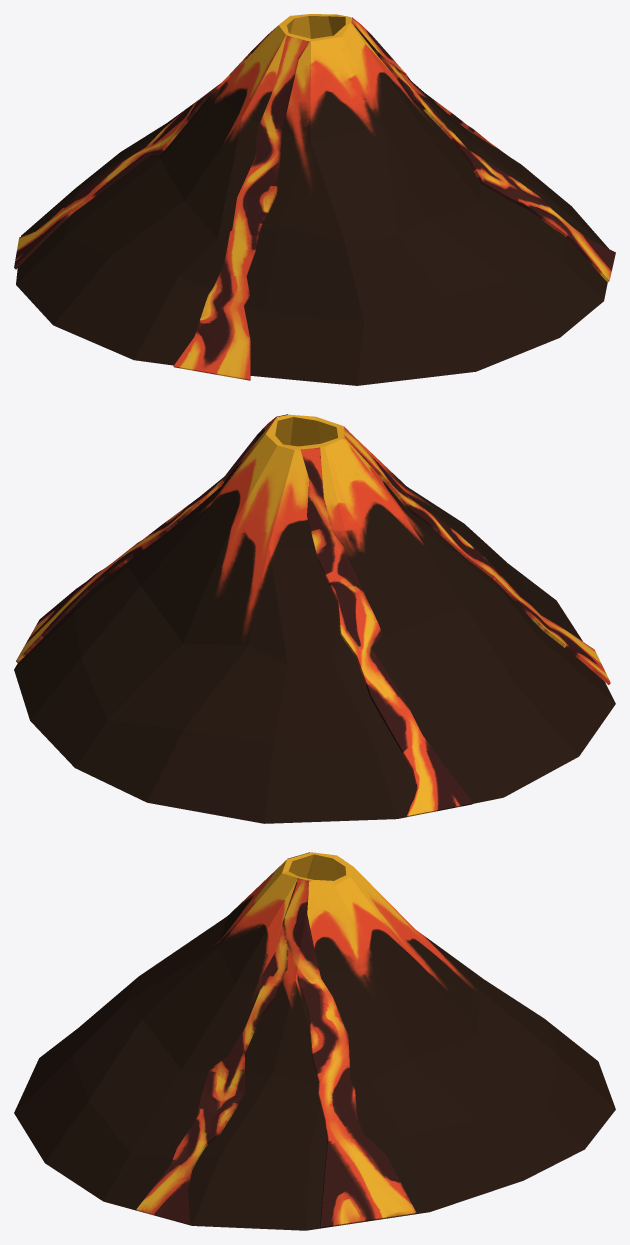
File: volcano.fbx
3 views of the same model, one above another, from view 1: azimuth 30°, elevation 25°; view 2: azimuth 150°, elevation 25°; view 3: azimuth 270°, elevation 25° (orthographic). The views are drawn at different scales.
Parts seen in each view (by area): view 1: volcano, lava, lava.002, lava.001; view 2: volcano, lava.001, lava, lava.002; view 3: volcano, lava.002.
Boxes of the visible parts, bbox=[...] form: volcano: bbox=[16, 14, 608, 385]; lava: bbox=[173, 35, 309, 380]; lava.002: bbox=[351, 17, 615, 282]; lava.001: bbox=[14, 26, 277, 269]; volcano: bbox=[14, 414, 615, 823]; lava.001: bbox=[300, 447, 473, 817]; lava: bbox=[344, 426, 610, 684]; lava.002: bbox=[16, 414, 287, 662]; volcano: bbox=[14, 852, 615, 1230]; lava.002: bbox=[136, 878, 416, 1228].
Bounding box in the file's own units: 529 × 244 × 538.
Materials: 2 (2 with a texture image).
